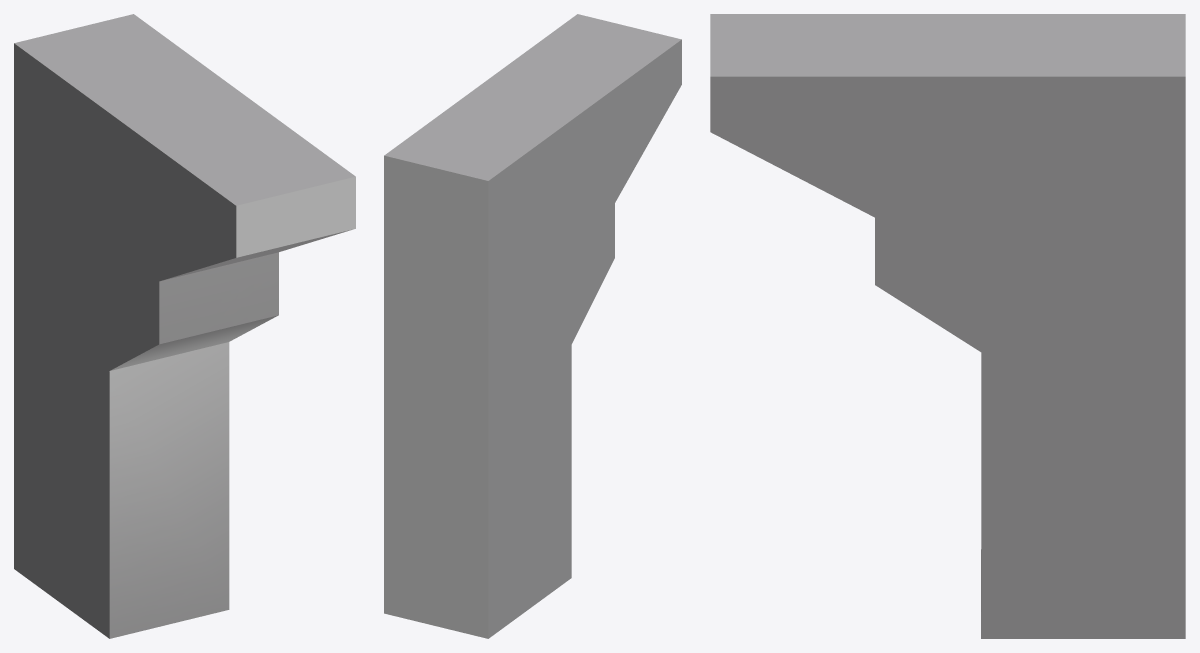
The model's file is Museum_DoorMantle.fbx.
3 renders of one model, left to right at view 1: azimuth 30°, elevation 25°; view 2: azimuth 150°, elevation 25°; view 3: azimuth 270°, elevation 25°, orthographic. The views are drawn at different scales.
Parts seen in each view (by area): view 1: Cube; view 2: Cube; view 3: Cube.
Part boxes in pixels (left/top/right/bottom): Cube: left=14, top=14, right=355, bottom=638; Cube: left=384, top=14, right=681, bottom=638; Cube: left=710, top=14, right=1185, bottom=638.
Size of the model in its own units: 0.0938 by 0.3936 by 0.3014.
